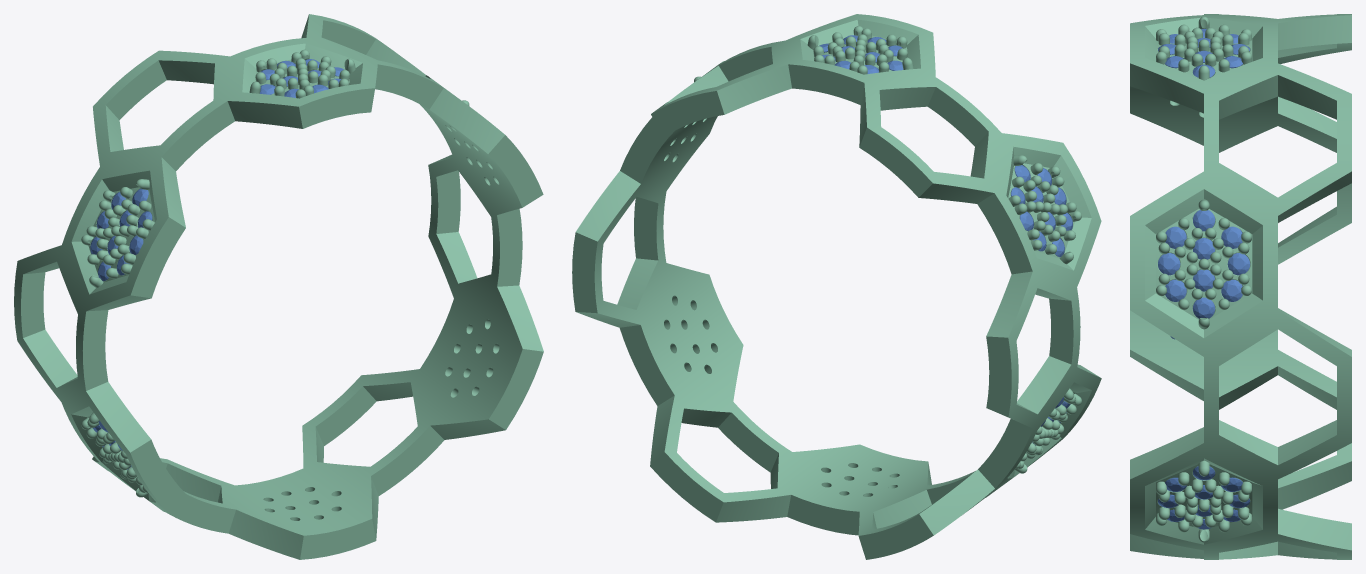
3 renders of one model, left to right at view 1: azimuth 30°, elevation 25°; view 2: azimuth 150°, elevation 25°; view 3: azimuth 270°, elevation 25°, orthographic. The views are drawn at different scales.
Parts seen in each view (by area): view 1: 6zeli.3dm; view 2: 6zeli.3dm; view 3: 6zeli.3dm, Gem (×10).
Boxes of the visible parts, <box> form: 6zeli.3dm: <box>14,14,543,559</box>; 6zeli.3dm: <box>572,14,1101,559</box>; 6zeli.3dm: <box>1130,14,1351,559</box>; Gem (×10): <box>1158,210,1250,318</box>.
Size of the model in its own units: 2.72 by 2.72 by 1.1.
